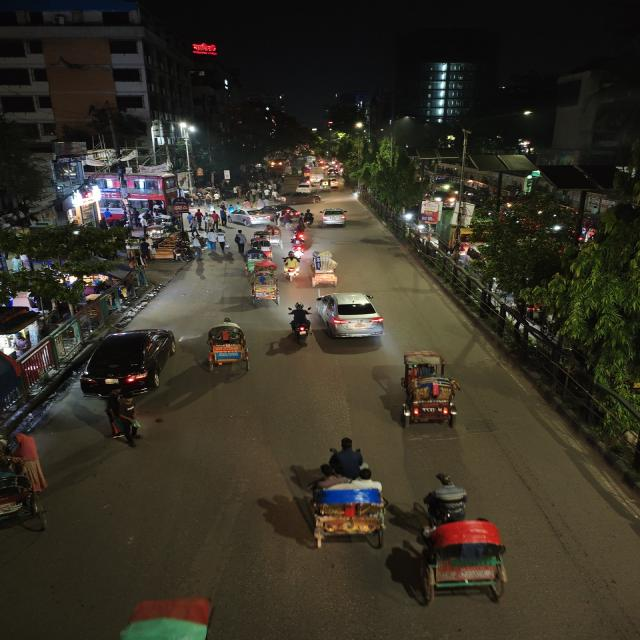car: (77, 323, 182, 399), (315, 291, 389, 343), (230, 207, 277, 224), (276, 191, 326, 205), (319, 207, 349, 228), (294, 182, 314, 193), (332, 178, 339, 190)
cng: (318, 178, 332, 191)
motorcycle: (286, 302, 314, 344), (282, 252, 302, 282), (290, 232, 308, 254), (292, 224, 309, 245), (304, 207, 316, 227)
pedestrian: (97, 390, 151, 448), (215, 232, 231, 256), (233, 228, 246, 254)
rickshaw: (391, 472, 530, 610), (278, 438, 396, 552), (391, 348, 476, 432), (0, 452, 40, 549), (200, 318, 258, 376), (246, 270, 282, 308), (308, 248, 342, 288), (243, 247, 266, 274), (263, 223, 282, 240)
